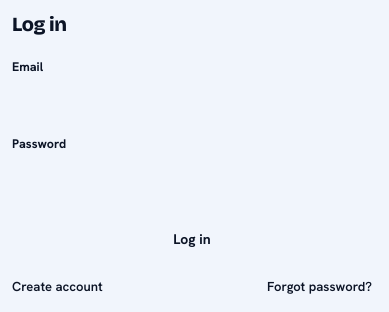
Test case: AuthForm › switches to the register mode
Click the button "Create account" at (57, 286), box left=12, top=278, right=103, bottom=295
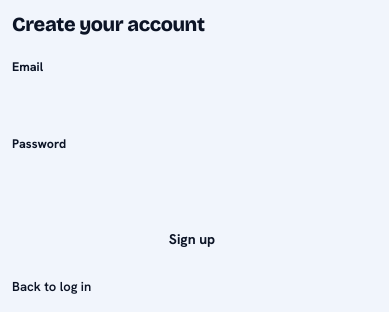
Now the button "Sign up" is shown, box left=12, top=218, right=372, bottom=260
